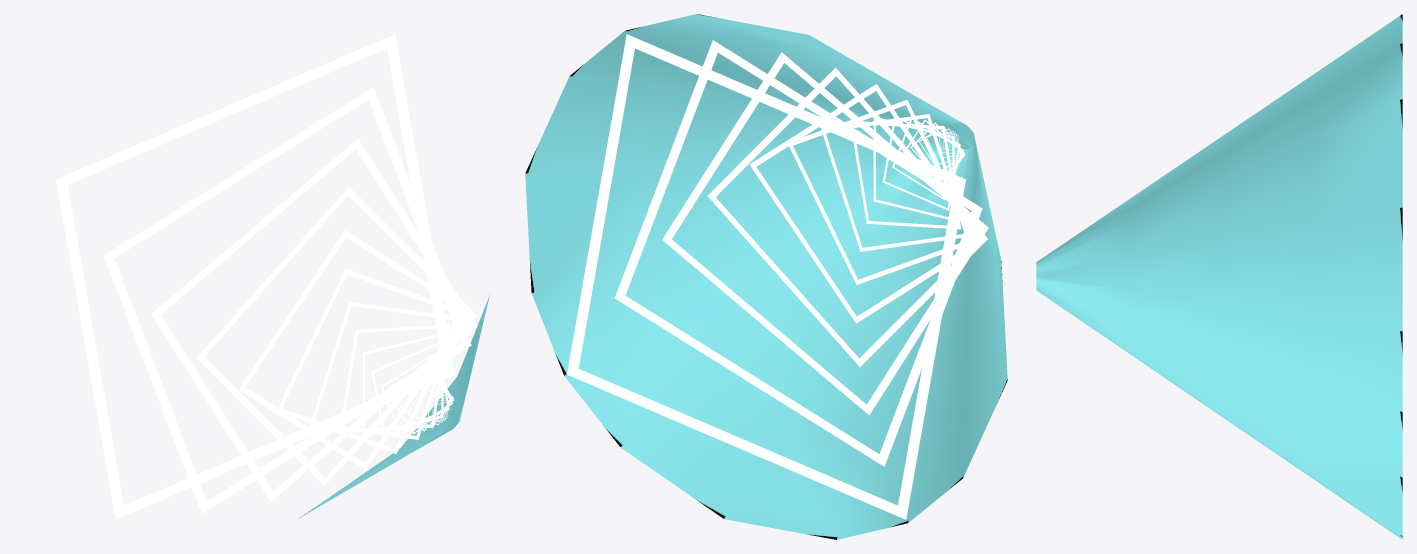
The model's file is square_spiral.glb.
3 renders of one model, left to right at view 1: azimuth 30°, elevation 25°; view 2: azimuth 150°, elevation 25°; view 3: azimuth 270°, elevation 25°, orthographic. The views are drawn at different scales.
Visible parts, largest first — view 1: spiral_square, spiral_light_cone; view 2: spiral_light_cone, spiral_square; view 3: spiral_light_cone.
Boxes of the visible parts, box(x1,y1,x2,y2) form: spiral_square: box(56, 34, 477, 519); spiral_light_cone: box(300, 295, 489, 517); spiral_light_cone: box(525, 14, 1007, 539); spiral_square: box(567, 34, 988, 519); spiral_light_cone: box(1036, 14, 1402, 539).
Bounding box in the file's own units: 12.28 × 12.28 × 8.52.
2 materials, 1 textured.
